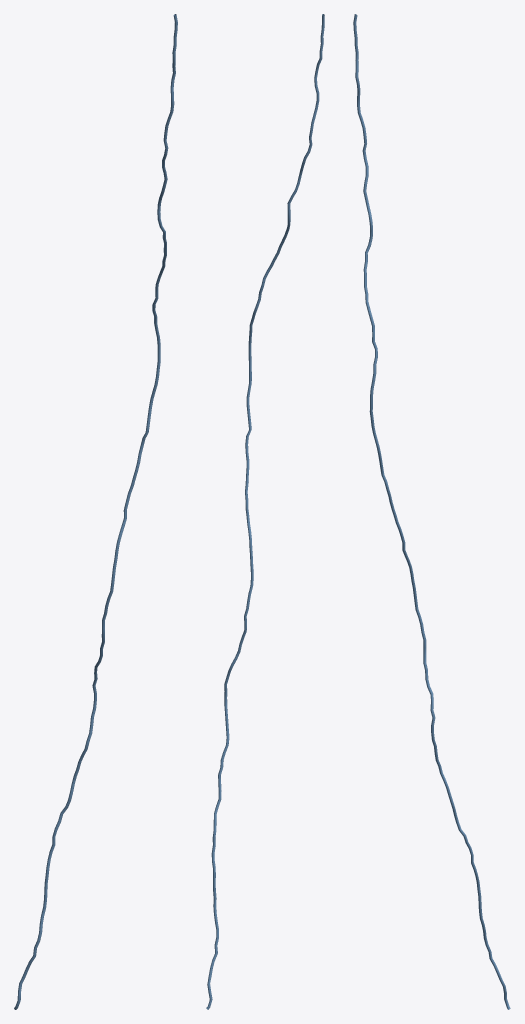
The model's file is sweep44.fbx.
The picture shows the model from 3 angles, left to right: view 1: azimuth 90°, elevation 25°; view 2: azimuth 150°, elevation 25°; view 3: azimuth 270°, elevation 25°; orthographic projection. The views are drawn at different scales.
Visible parts, largest first — view 1: sweep44; view 2: sweep44; view 3: sweep44.
Boxes of the visible parts, left/top/right/bottom form: sweep44: left=14, top=14, right=177, bottom=1009; sweep44: left=206, top=14, right=324, bottom=1009; sweep44: left=353, top=14, right=510, bottom=1009.
Size of the model in its own units: 0.5415 by 7.19 by 1.05.
